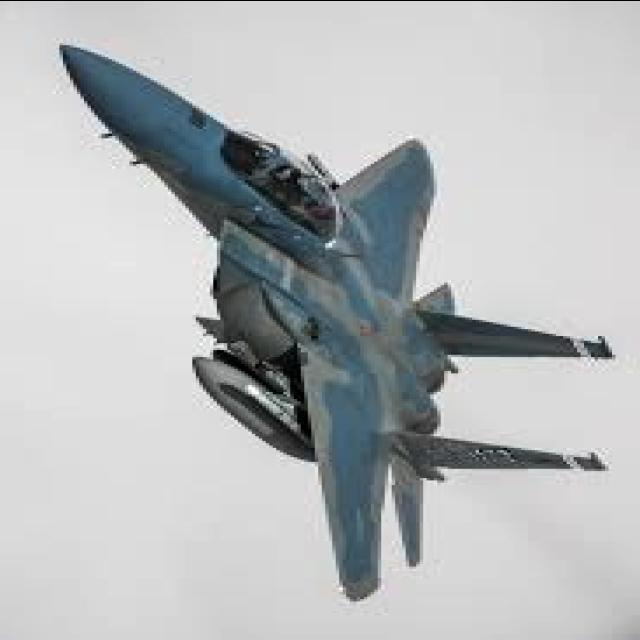F15: (44, 9, 628, 612)
